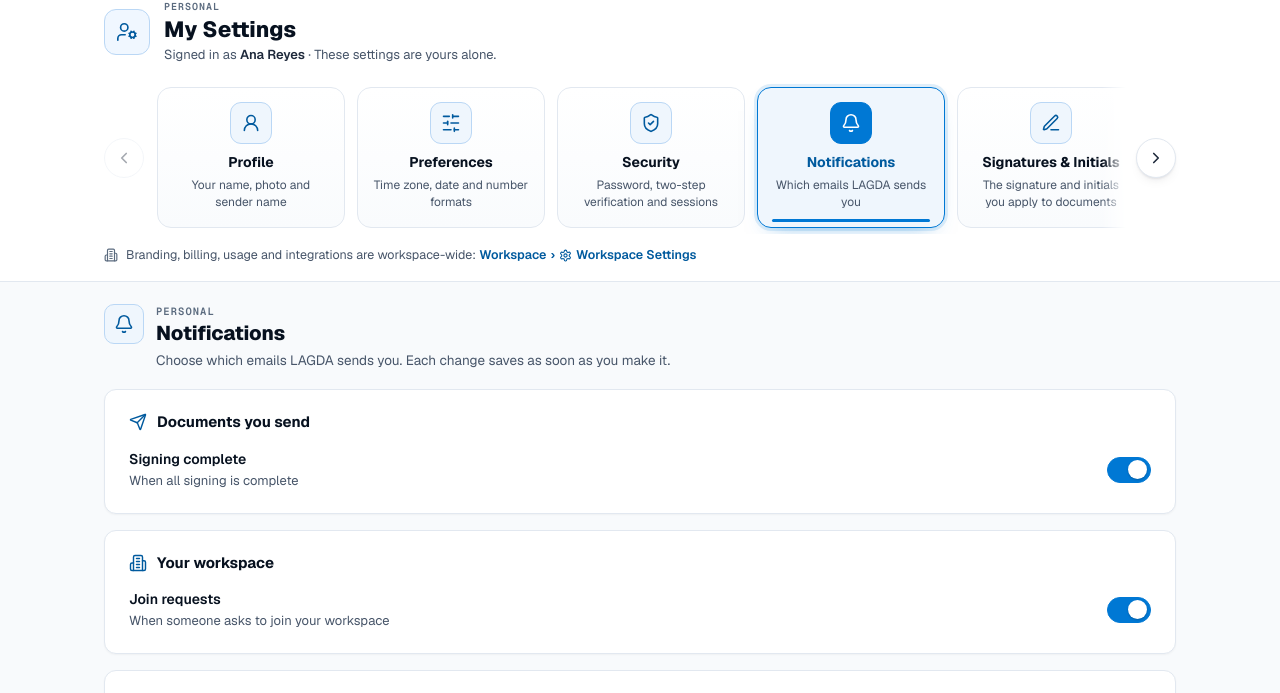
notifications › shows only the switches that control a real email, lists the always-on emails, and saves each switch on its own
The image size is (1280, 693).
Expected: the heading "Documents you send" is shown, [157,412,310,433]
Expected: the heading "Your workspace" is shown, [157,552,274,573]
What coordinates should you click on to do the following:
click the switch in the row of "When all signing is complete"
I would click on:
 (1129, 470)
Its box is [1107,457,1151,483].
(page scrolled)
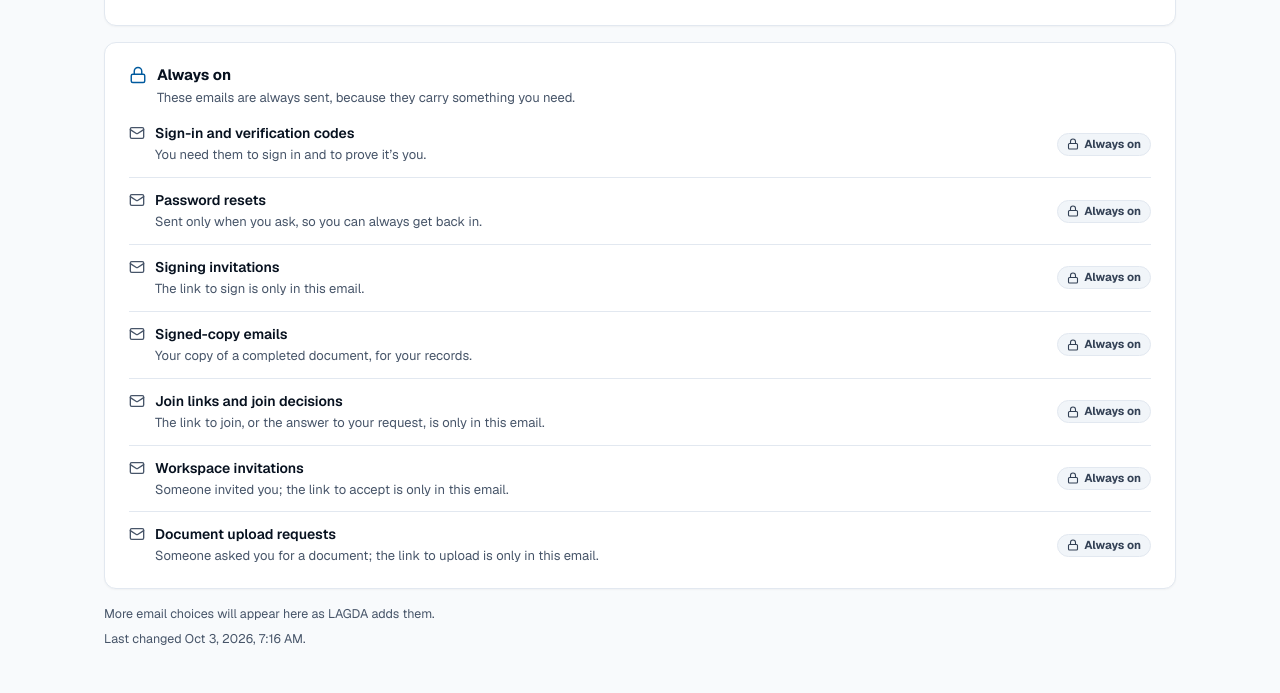
Expected: the text "Last changed Oct 3, 2026, 7:16 AM." is shown, [104,630,306,647]
